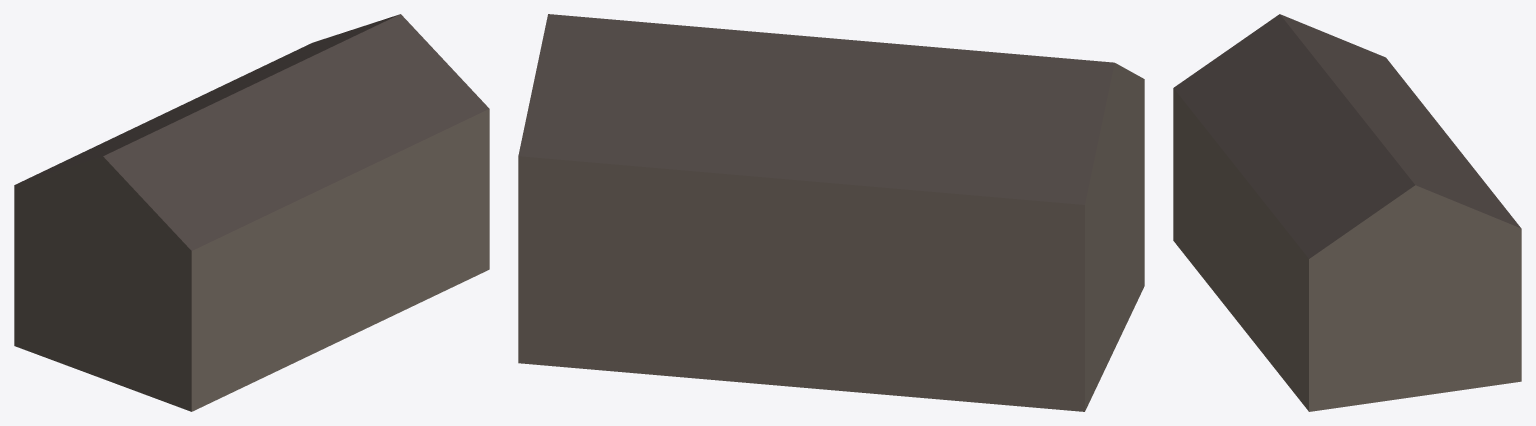
The picture shows the model from 3 angles, left to right: view 1: azimuth 30°, elevation 25°; view 2: azimuth 150°, elevation 25°; view 3: azimuth 270°, elevation 25°; orthographic projection. The views are drawn at different scales.
Parts seen in each view (by area): view 1: HP-w372180457; view 2: HP-w372180457; view 3: HP-w372180457.
Part boxes in pixels (bbox=[...]): HP-w372180457: bbox=[14, 14, 489, 411]; HP-w372180457: bbox=[518, 14, 1144, 411]; HP-w372180457: bbox=[1173, 14, 1521, 411].
Bounding box in the file's own units: 25.44 × 12.46 × 18.57.
